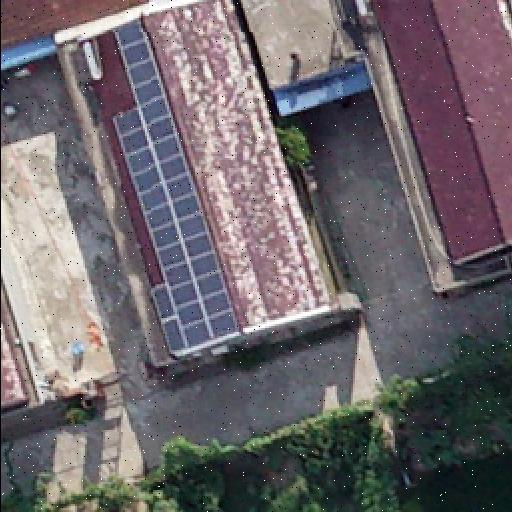solar-panel: (92, 4, 240, 367)
